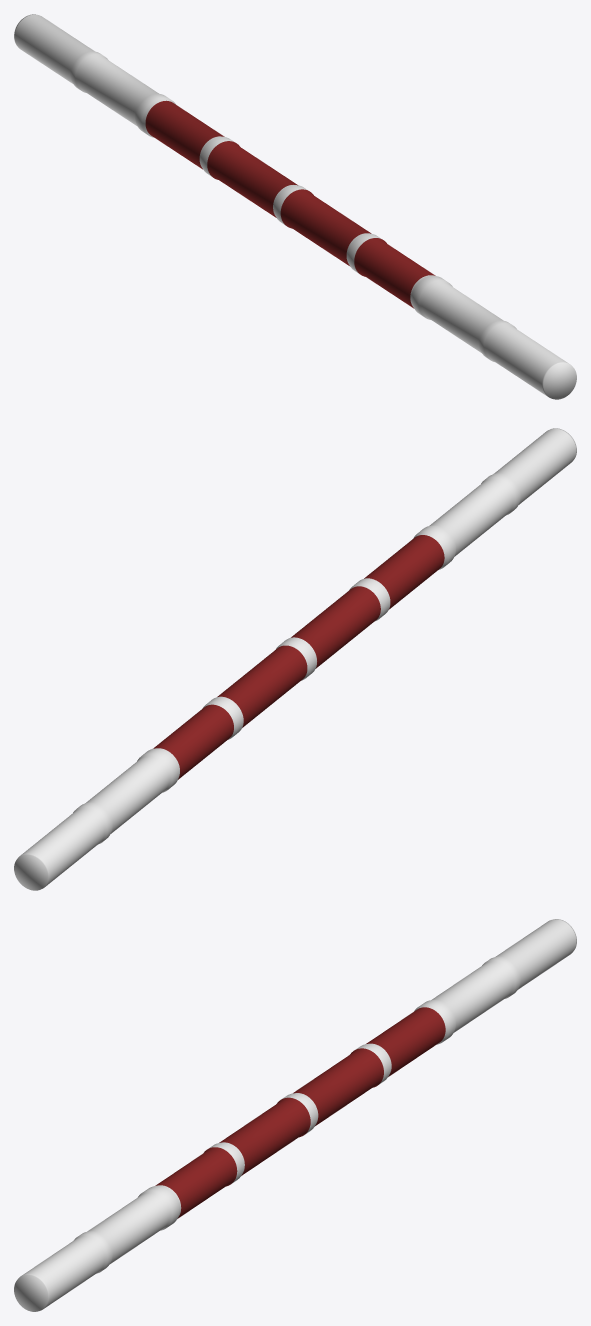
File: Ruyi_Jingu_Bang_Weapon.fbx
3 renders of one model, top to bottom at view 1: azimuth 30°, elevation 25°; view 2: azimuth 150°, elevation 25°; view 3: azimuth 330°, elevation 25°, orthographic.
Visible parts, largest first — view 1: Ruyi_Jingu_Bang_Big.001; view 2: Ruyi_Jingu_Bang_Big.001; view 3: Ruyi_Jingu_Bang_Big.001.
Boxes of the visible parts, x1=… form: Ruyi_Jingu_Bang_Big.001: x1=14, y1=14, x2=576, y2=399; Ruyi_Jingu_Bang_Big.001: x1=14, y1=428, x2=576, y2=890; Ruyi_Jingu_Bang_Big.001: x1=14, y1=919, x2=576, y2=1311.
Bounding box in the file's own units: 10.57 × 18.1 × 245.
